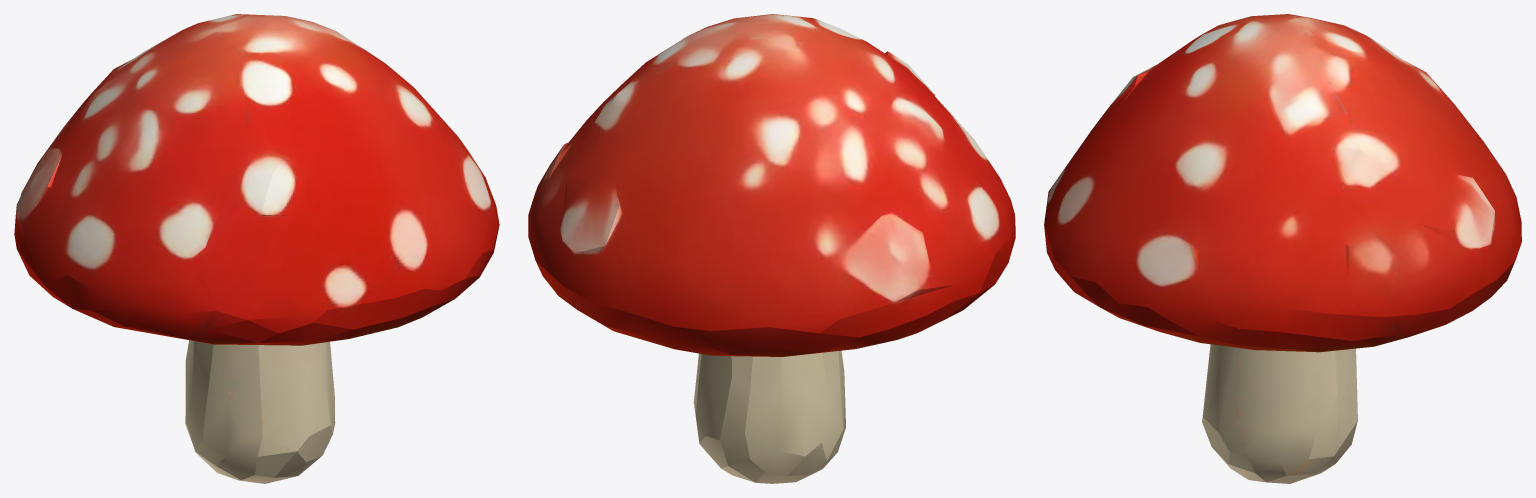
The model's file is mushroom.glb.
3 renders of one model, left to right at view 1: azimuth 30°, elevation 25°; view 2: azimuth 150°, elevation 25°; view 3: azimuth 270°, elevation 25°, orthographic.
Visible parts, largest first — view 1: model; view 2: model; view 3: model.
Boxes of the visible parts, <box> form: model: <box>14,14,499,483</box>; model: <box>528,14,1015,483</box>; model: <box>1044,14,1521,483</box>.
Bounding box in the file's own units: 1.88 × 1.9 × 1.87.
1 material, 1 textured.
